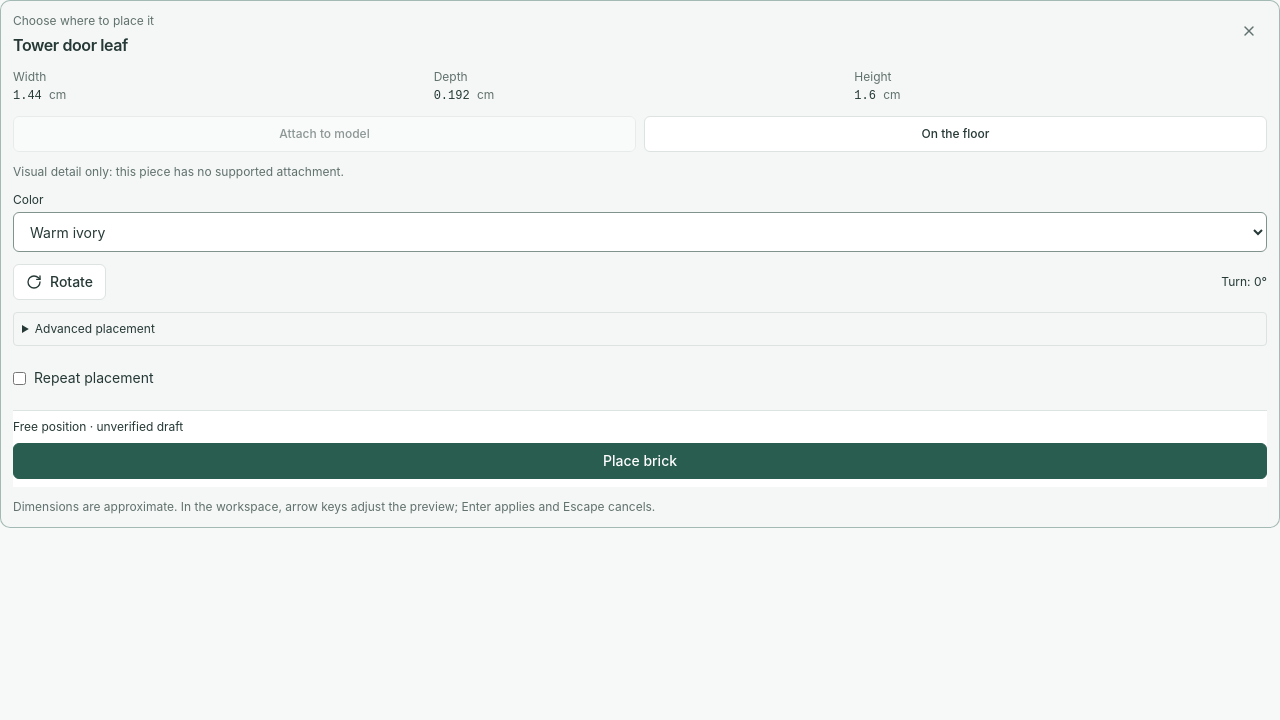
Test: Placement controls guide a consistent preview and commit › explains an unavailable attachment and never enables Connect for a visual detail
Expected: the button "Attach to model" is disabled, [13, 116, 636, 152]
Click the heading "Advanced placement".
click(95, 328)  # box [35, 321, 155, 336]
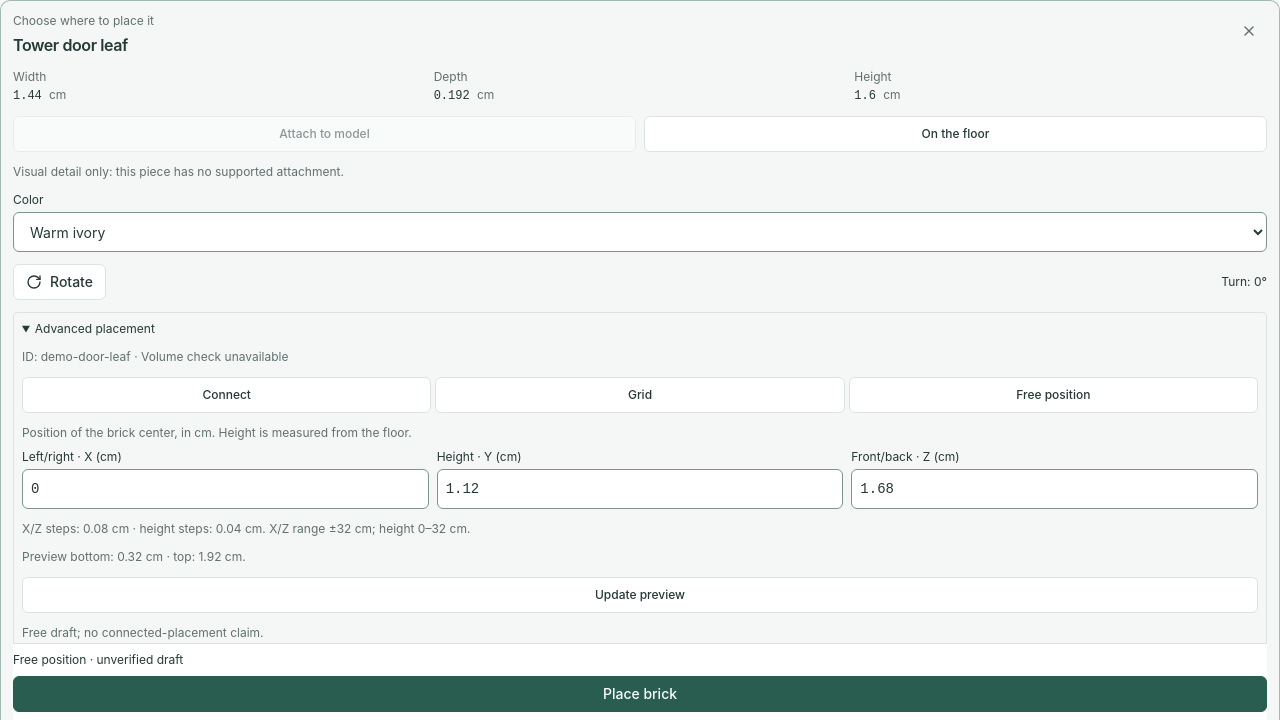
Click the button "Connect".
click(227, 395)  # box [22, 377, 431, 413]
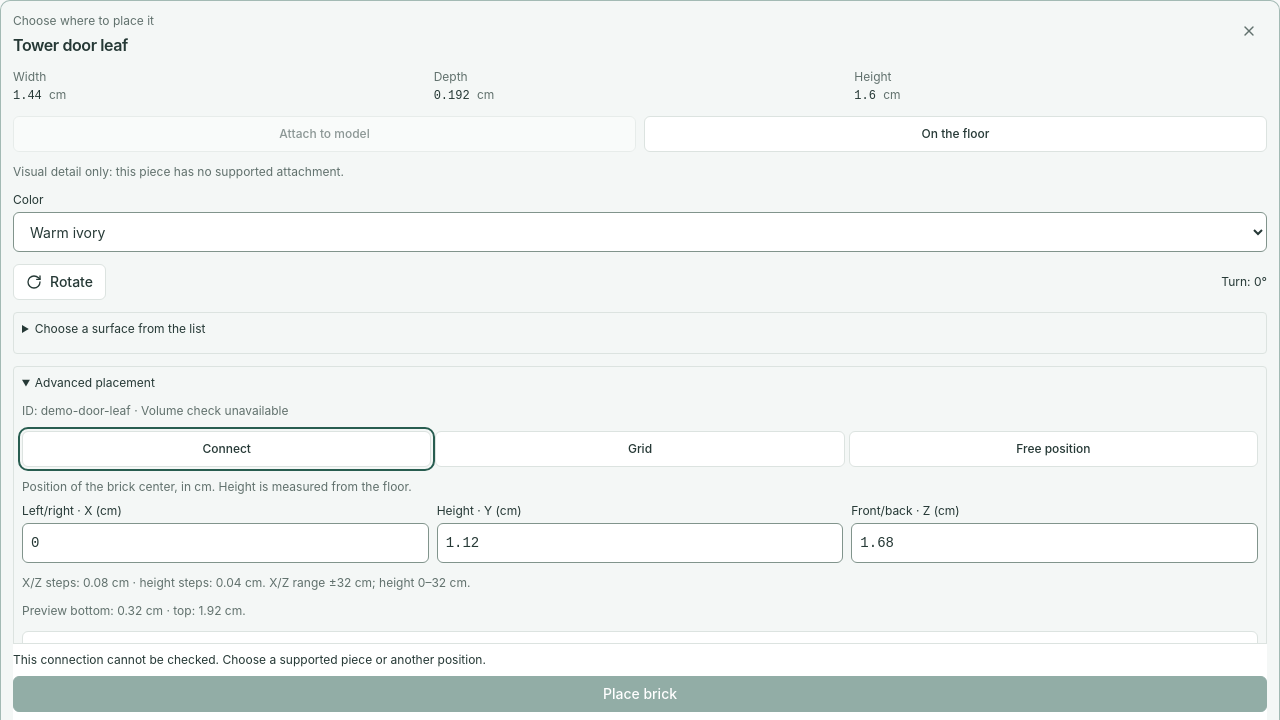
Expected: the text "Visual detail only: this piece has no supported attachment." is shown, [13, 164, 344, 179]
Expected: the button "Place brick" is disabled, [13, 676, 1267, 712]
Click the button "Free position".
click(1053, 449)  # box [849, 431, 1258, 467]
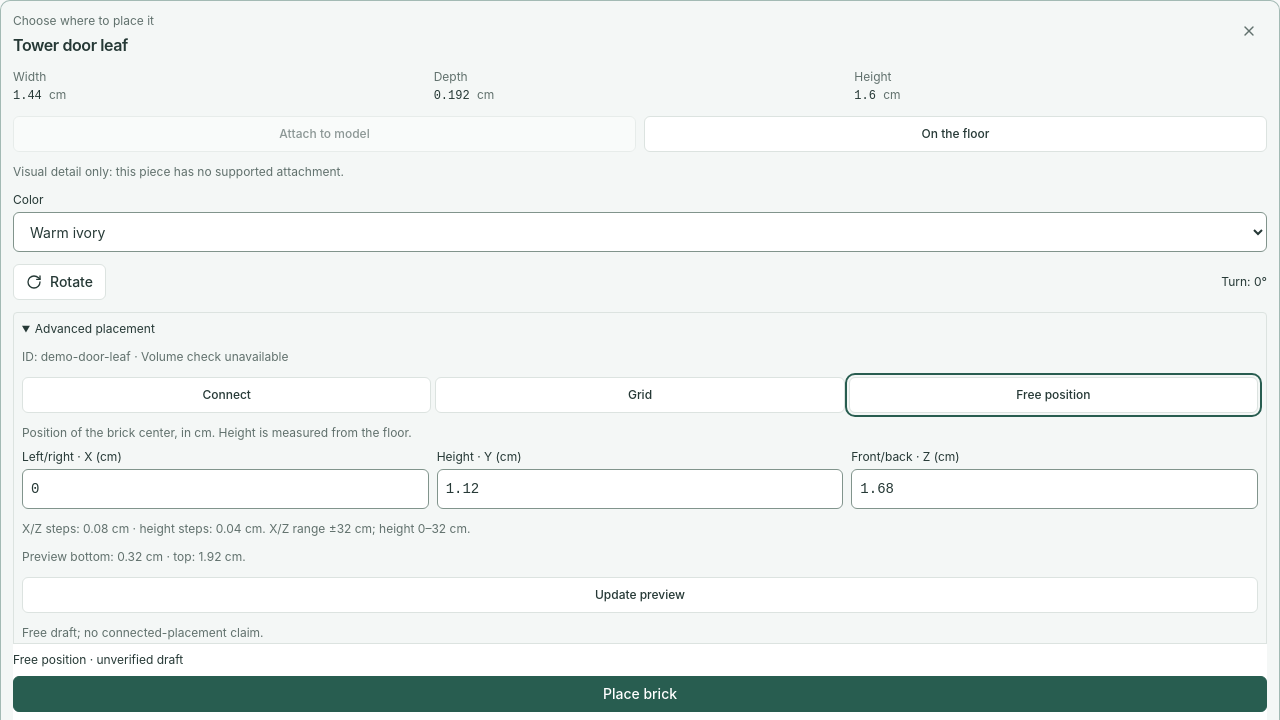
Expected: the button "Place brick" is enabled, [13, 676, 1267, 712]
